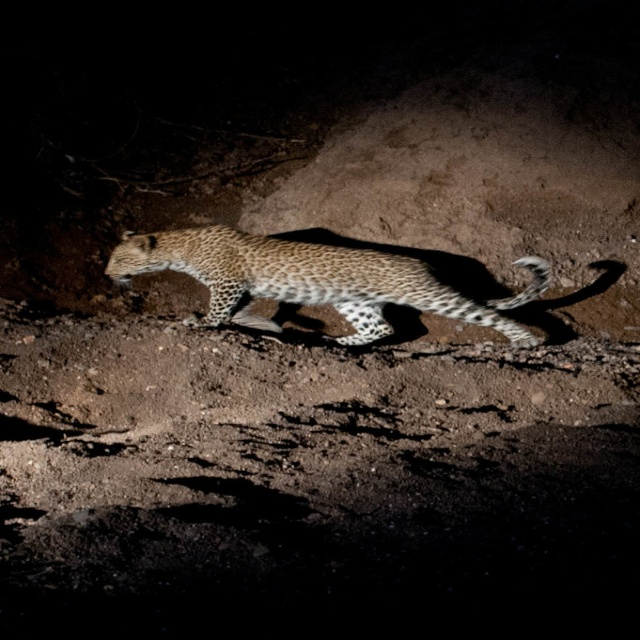Jaguar: (105, 223, 553, 346)
